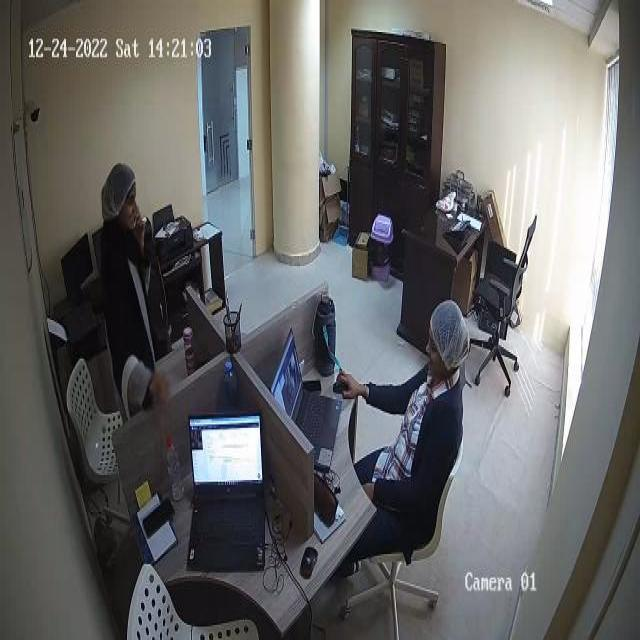hairnet: (430, 298, 472, 368), (101, 164, 135, 225)
